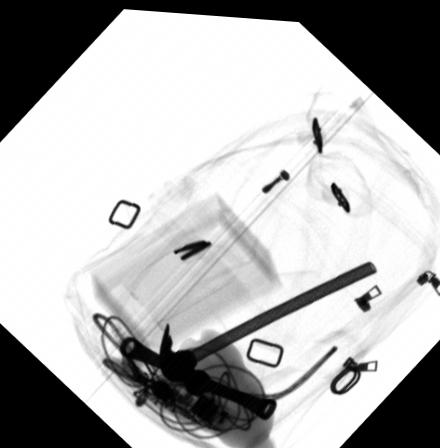Hammer: (158, 254, 376, 392)
Wrench: (120, 333, 274, 417)
